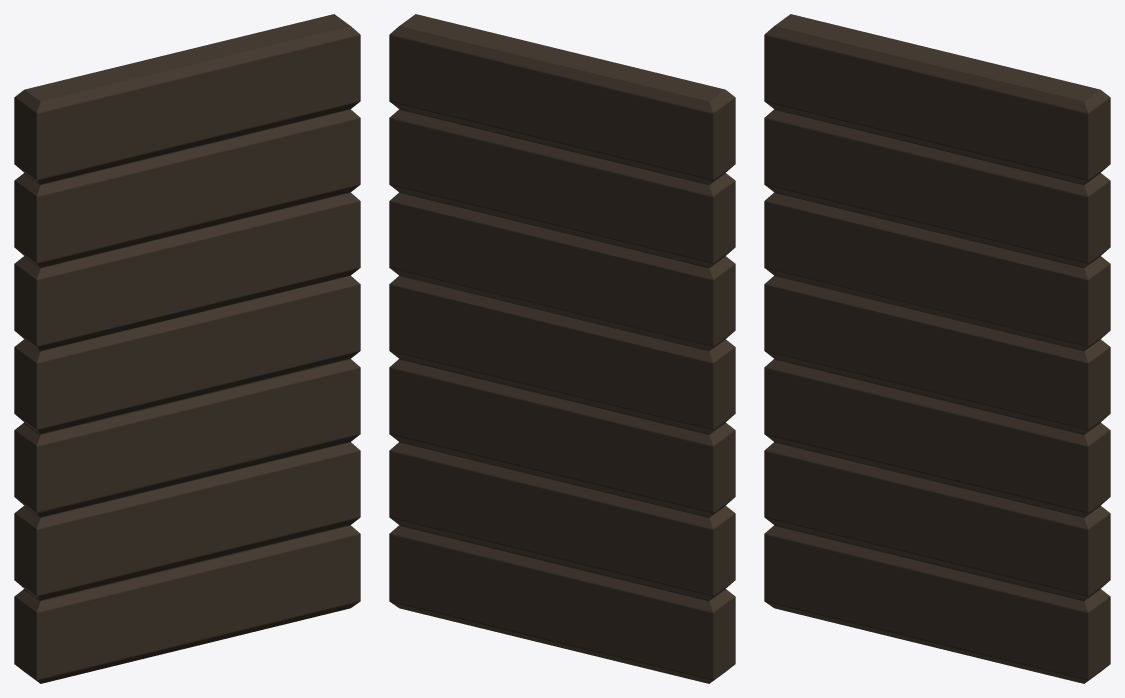
File: Door.fbx
The picture shows the model from 3 angles, left to right: view 1: azimuth 30°, elevation 25°; view 2: azimuth 150°, elevation 25°; view 3: azimuth 330°, elevation 25°; orthographic projection.
Parts seen in each view (by area): view 1: door; view 2: door; view 3: door.
Part boxes in pixels (x1=…): door: x1=14, y1=14, x2=360, y2=683; door: x1=389, y1=14, x2=735, y2=683; door: x1=764, y1=14, x2=1110, y2=683.
Bounding box in the file's own units: 3.35 × 5.75 × 0.4.
